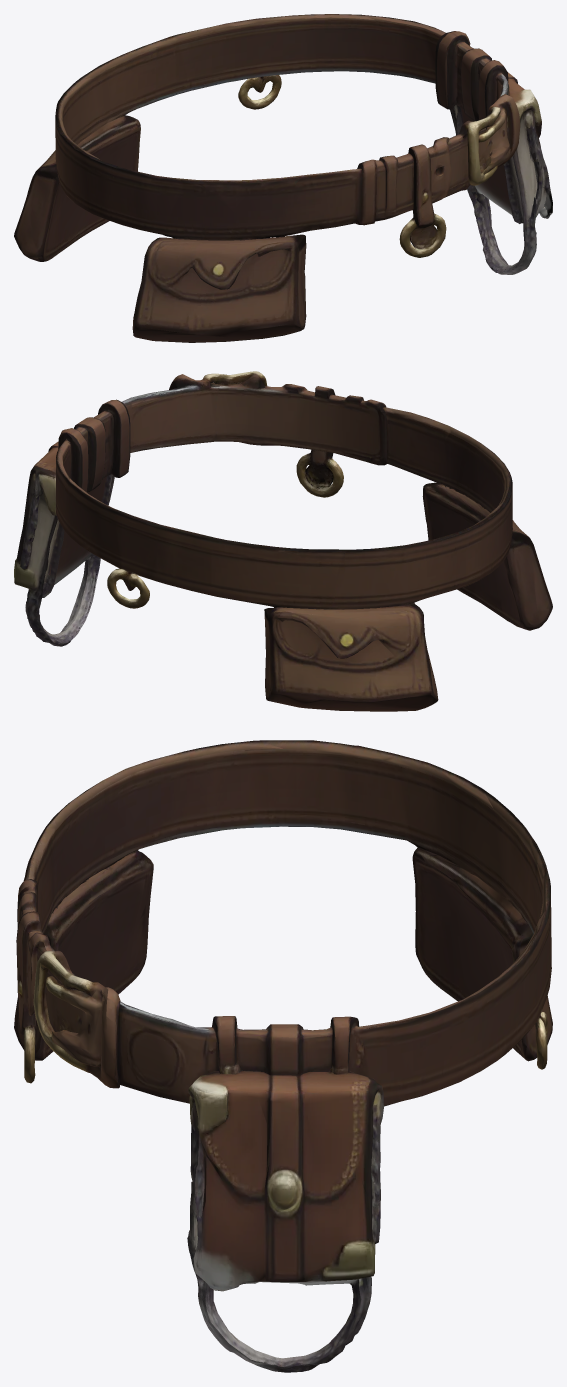
Rendered from mage_m_belt.glb.
3 renders of one model, top to bottom at view 1: azimuth 30°, elevation 25°; view 2: azimuth 150°, elevation 25°; view 3: azimuth 270°, elevation 25°, orthographic. The views are drawn at different scales.
Visible parts, largest first — view 1: world; view 2: world; view 3: world.
Part boxes in pixels (bbox=[...]): world: bbox=[14, 14, 552, 342]; world: bbox=[14, 371, 552, 711]; world: bbox=[14, 740, 552, 1372].
Size of the model in its own units: 0.42 by 0.2098 by 0.3.
1 material, 1 textured.
